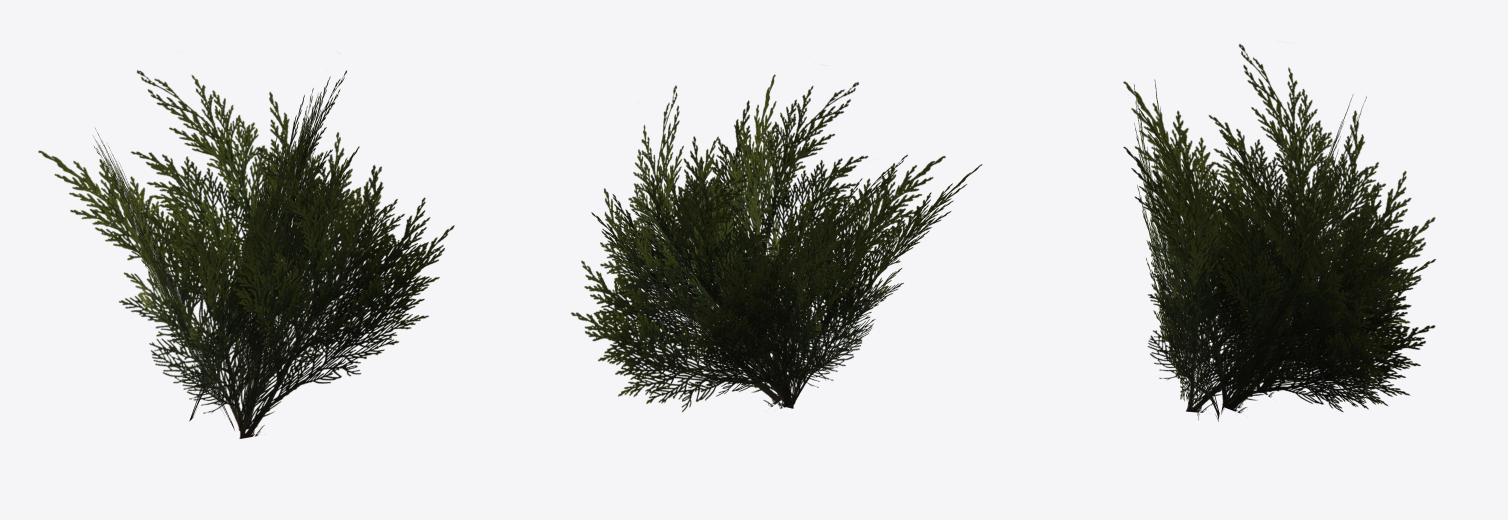
3 views of the same model, side by side, from view 1: azimuth 30°, elevation 25°; view 2: azimuth 150°, elevation 25°; view 3: azimuth 270°, elevation 25° (orthographic). The views are drawn at different scales.
Visible parts, largest first — view 1: bushgreen1; view 2: bushgreen1; view 3: bushgreen1.
Part boxes in pixels (bbox=[...]): bushgreen1: bbox=[38, 70, 454, 438]; bushgreen1: bbox=[571, 74, 982, 411]; bushgreen1: bbox=[1123, 44, 1435, 421].
Bounding box in the file's own units: 144 × 141 × 148.
1 material, 1 textured.
